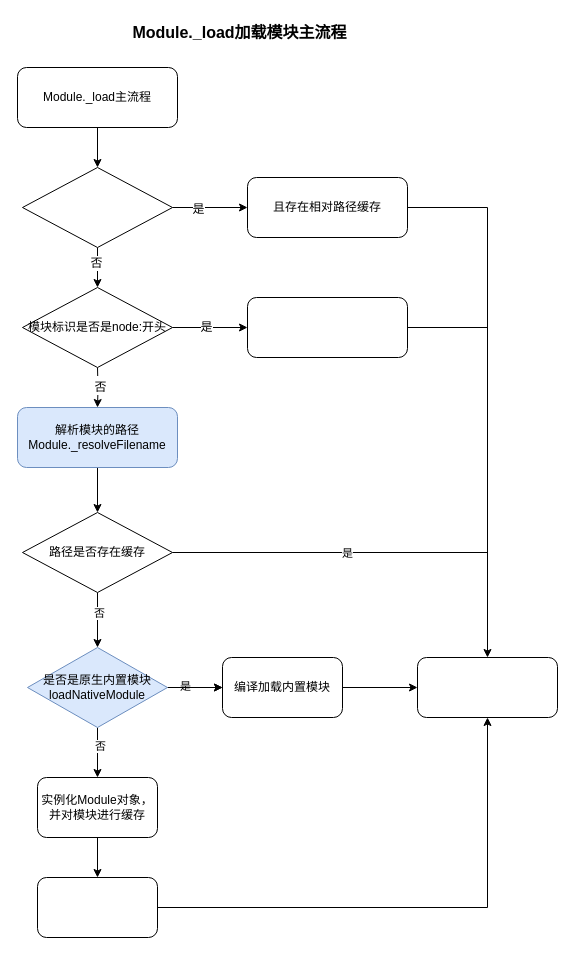
Image size: 575x955. Some labels were removed from this diagram. The centre of each missing label's shape, as x and y in pixels:
"node:开头的是原生内置模块，则加载内置模块" belongs at point (327, 327).
"加载模块Module.load" belongs at point (97, 907).
"是否存在parent，即是否在同一模块中导入" belongs at point (97, 207).
"返回module.exports对象" belongs at point (487, 687).
